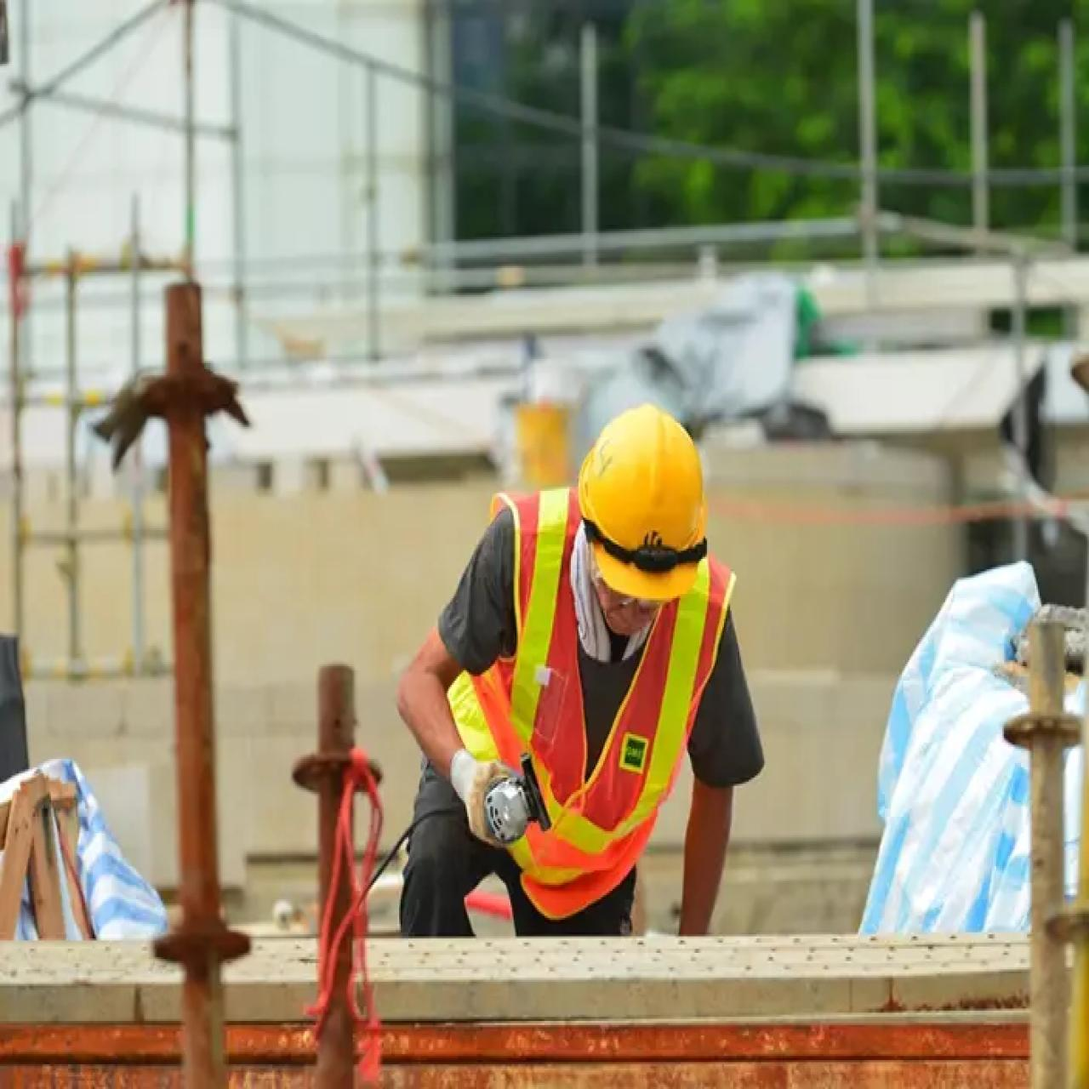Person: (383, 383, 781, 934)
Safety_Vest: (445, 512, 733, 912)
